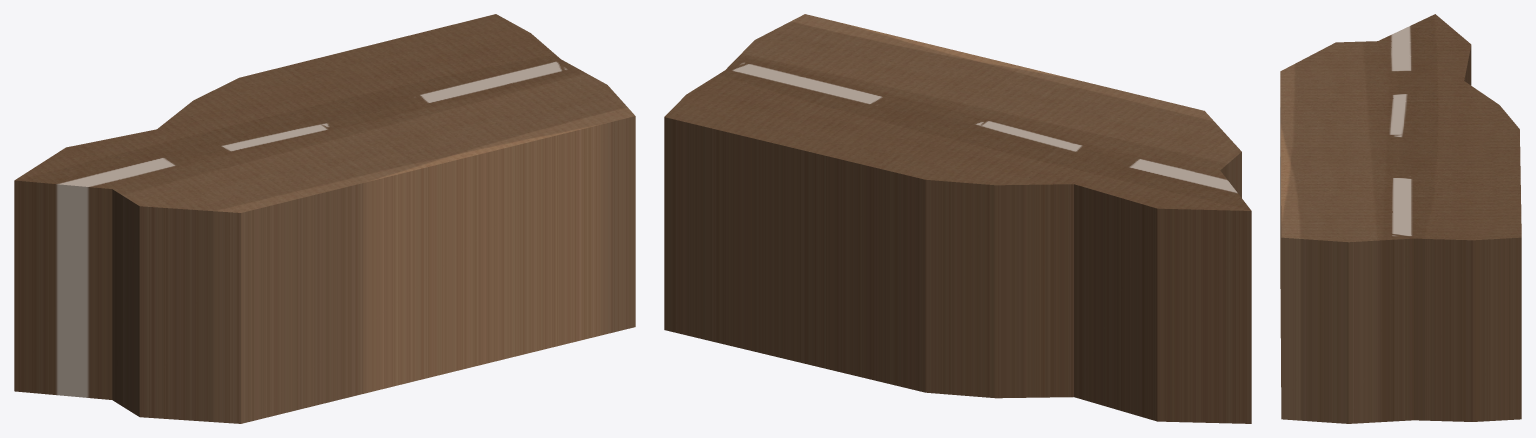
Rendered from road_7.FBX.
The picture shows the model from 3 angles, left to right: view 1: azimuth 30°, elevation 25°; view 2: azimuth 150°, elevation 25°; view 3: azimuth 270°, elevation 25°; orthographic projection. The views are drawn at different scales.
Visible parts, largest first — view 1: road_7; view 2: road_7; view 3: road_7.
Part boxes in pixels (x1,y1,x2,y2): road_7: (14, 14, 635, 423); road_7: (664, 14, 1251, 423); road_7: (1280, 14, 1521, 423).
Size of the model in its own units: 1077 by 400 by 482.
1 material, 1 textured.
